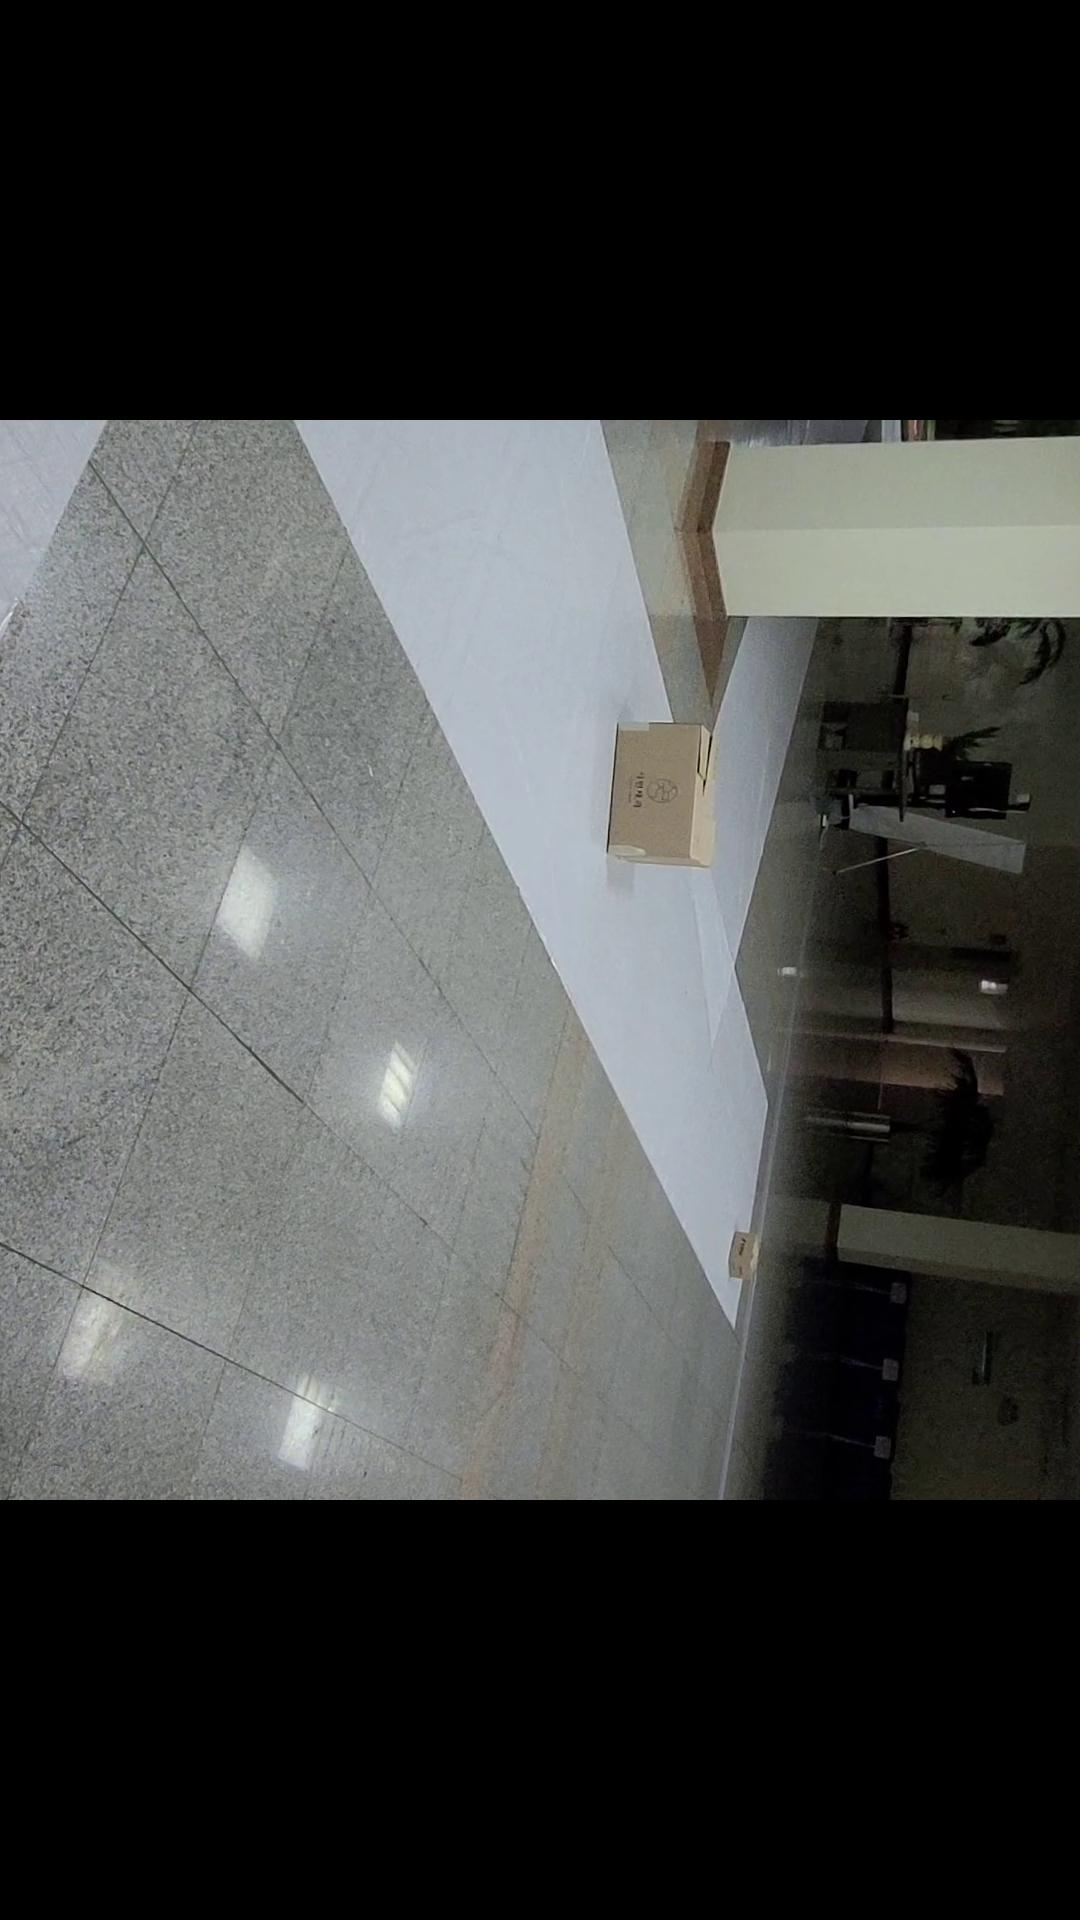Box: (580, 691, 717, 905), (709, 1197, 777, 1317)
